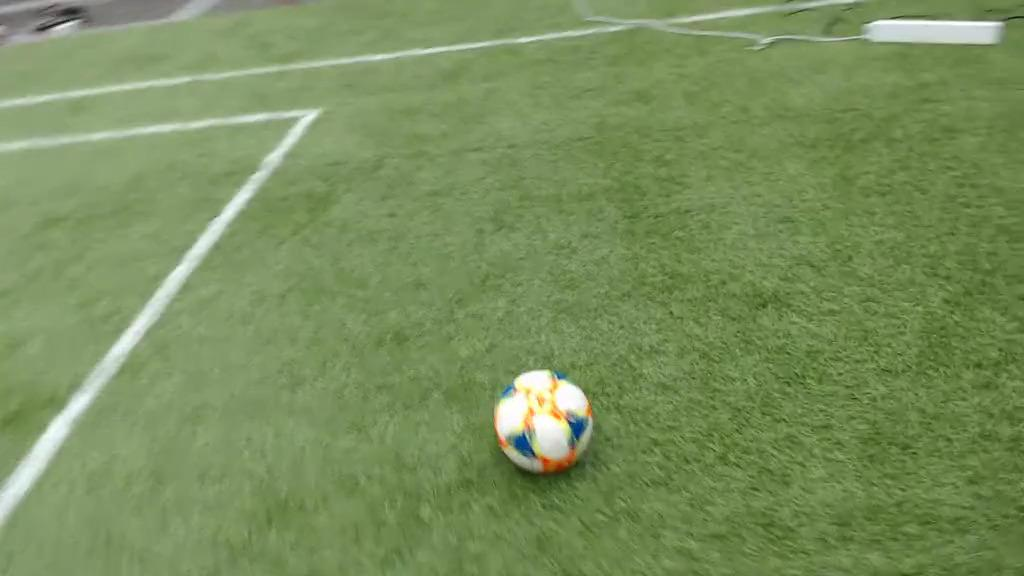ball: (494, 369, 594, 472)
